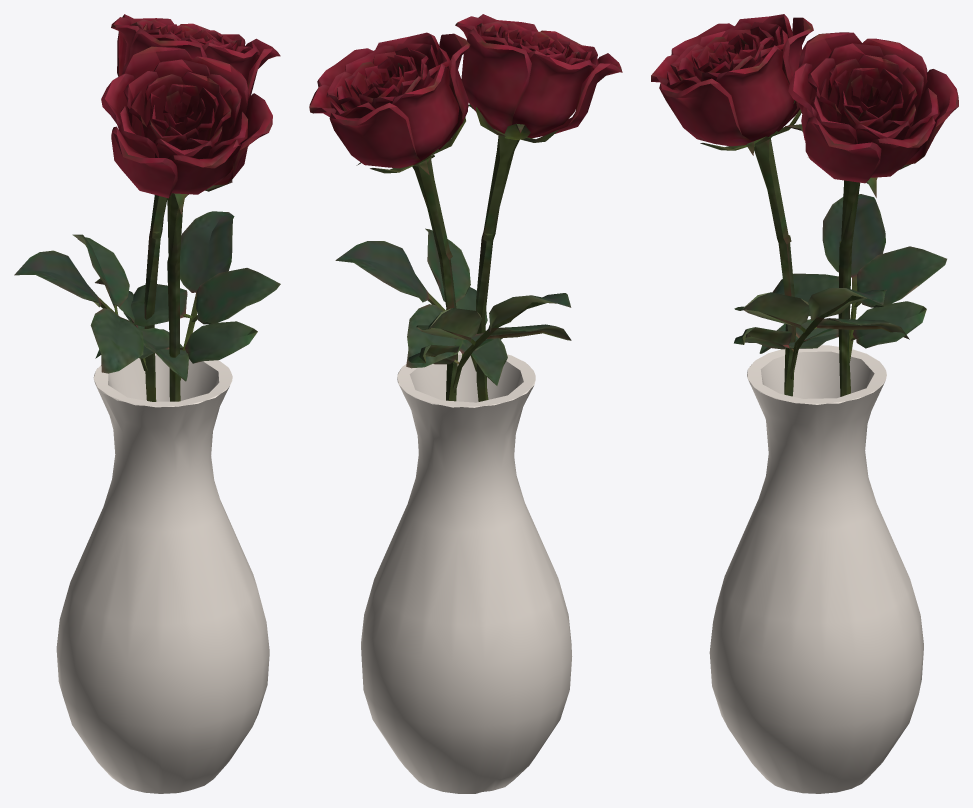
Rendered from vase-rose.lod1.glb.
3 views of the same model, side by side, from view 1: azimuth 30°, elevation 25°; view 2: azimuth 150°, elevation 25°; view 3: azimuth 270°, elevation 25° (orthographic).
Parts seen in each view (by area): view 1: vase-rose; view 2: vase-rose; view 3: vase-rose.
Boxes of the visible parts, box(x1,y1,x2,y2) form: vase-rose: box(14, 14, 280, 793); vase-rose: box(309, 14, 622, 793); vase-rose: box(651, 14, 958, 793).
Bounding box in the file's own units: 0.1443 × 0.3979 × 0.1506.
Materials: 2 (2 with a texture image).
